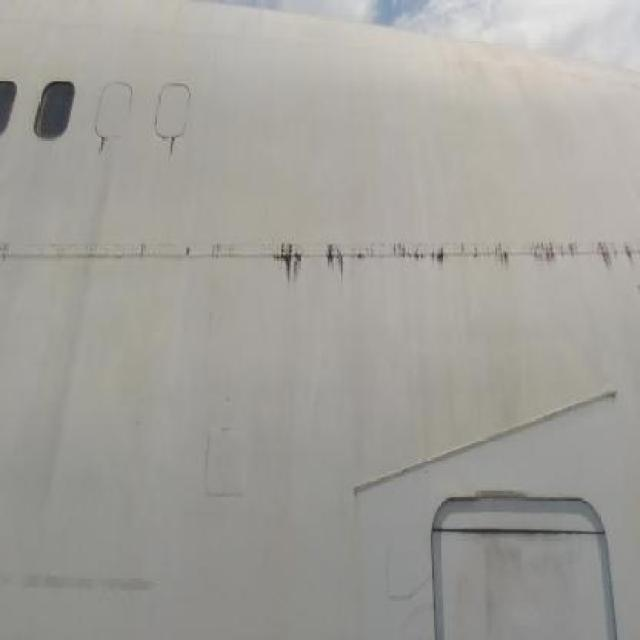Rust: (267, 231, 640, 297), (92, 134, 112, 164), (164, 138, 178, 164)
Scartch: (11, 540, 175, 614), (474, 533, 598, 625)
